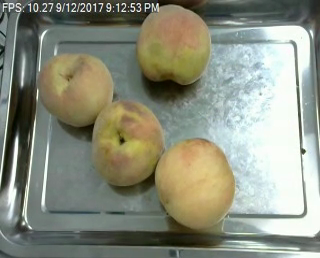Peach: (156, 136, 234, 231), (91, 98, 164, 187), (134, 4, 209, 84), (36, 50, 113, 127)
